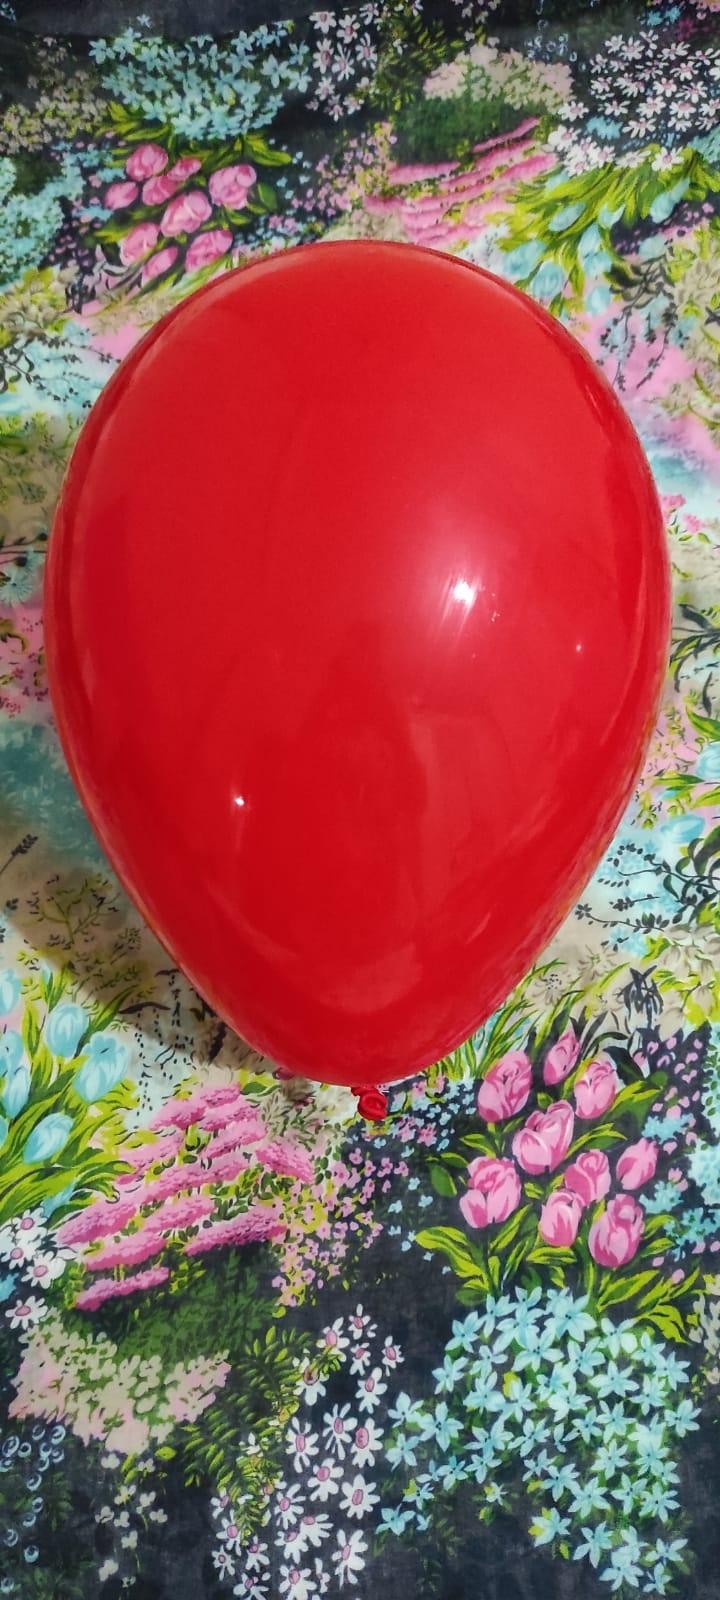red: (31, 220, 689, 1119)
